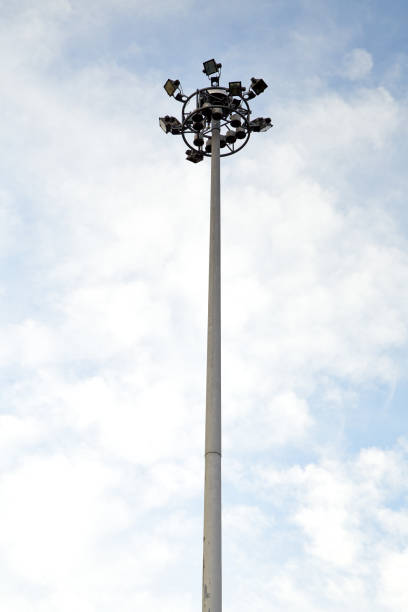light_pole: (199, 157, 230, 611)
